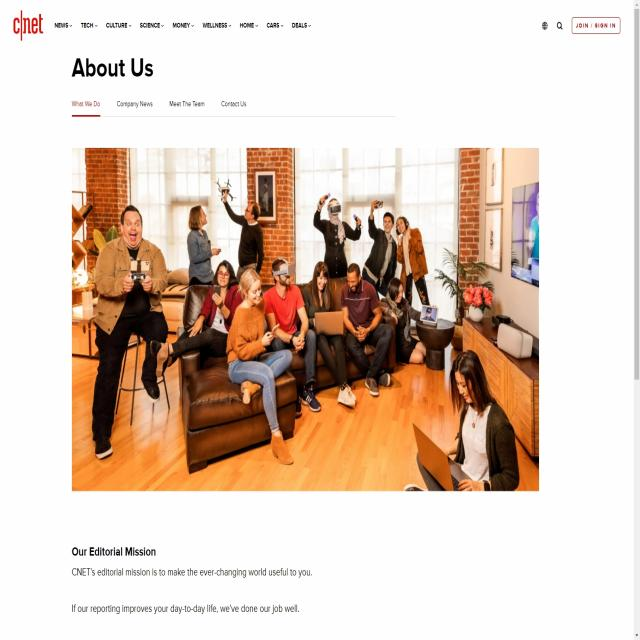menu-bar: (52, 15, 315, 37)
menu-panel: (66, 91, 262, 120)
